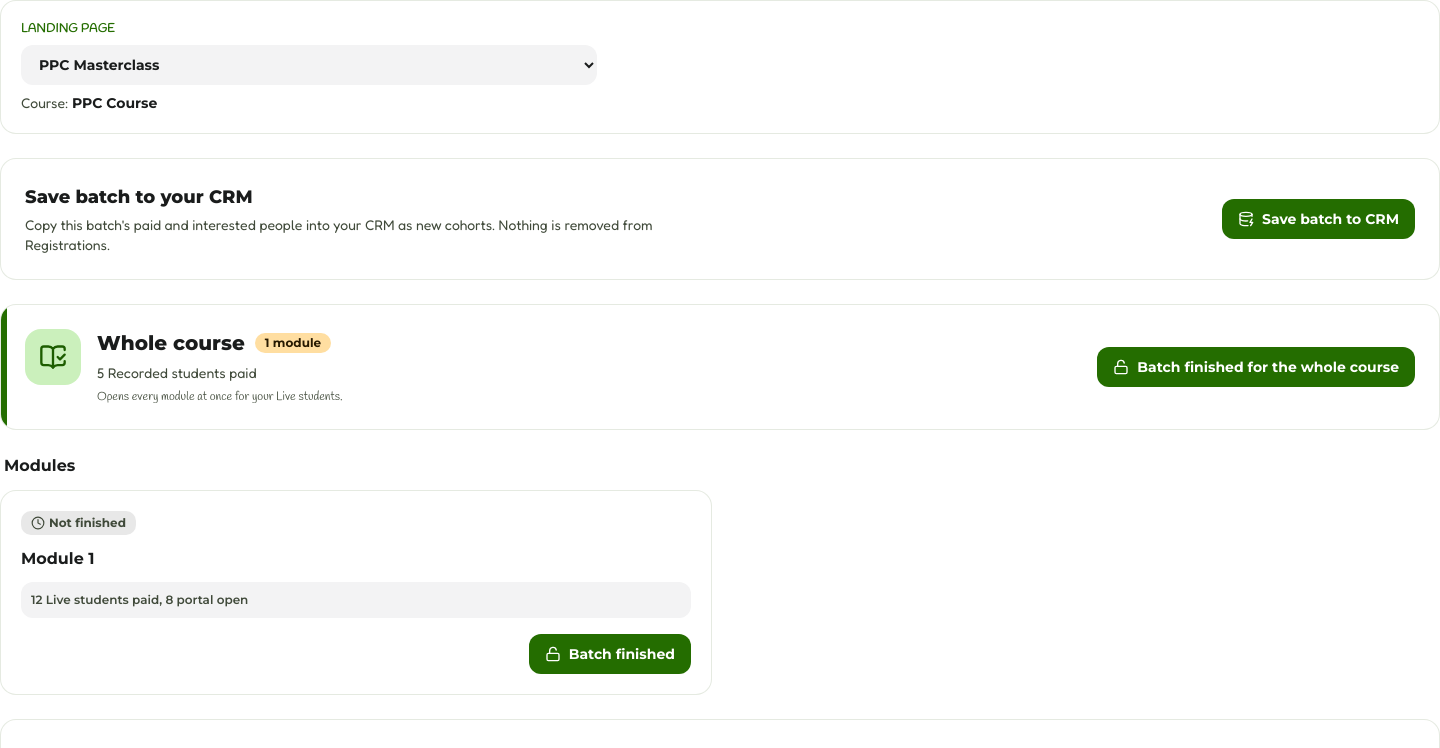
Test: Save batch to CRM › asks for the preview and shows the counts in the warning
Expected: the heading "Module 1" is shown, [21,549,94,568]
Click the button "Save batch to CRM".
click(1318, 219)  # box [1222,199,1415,239]
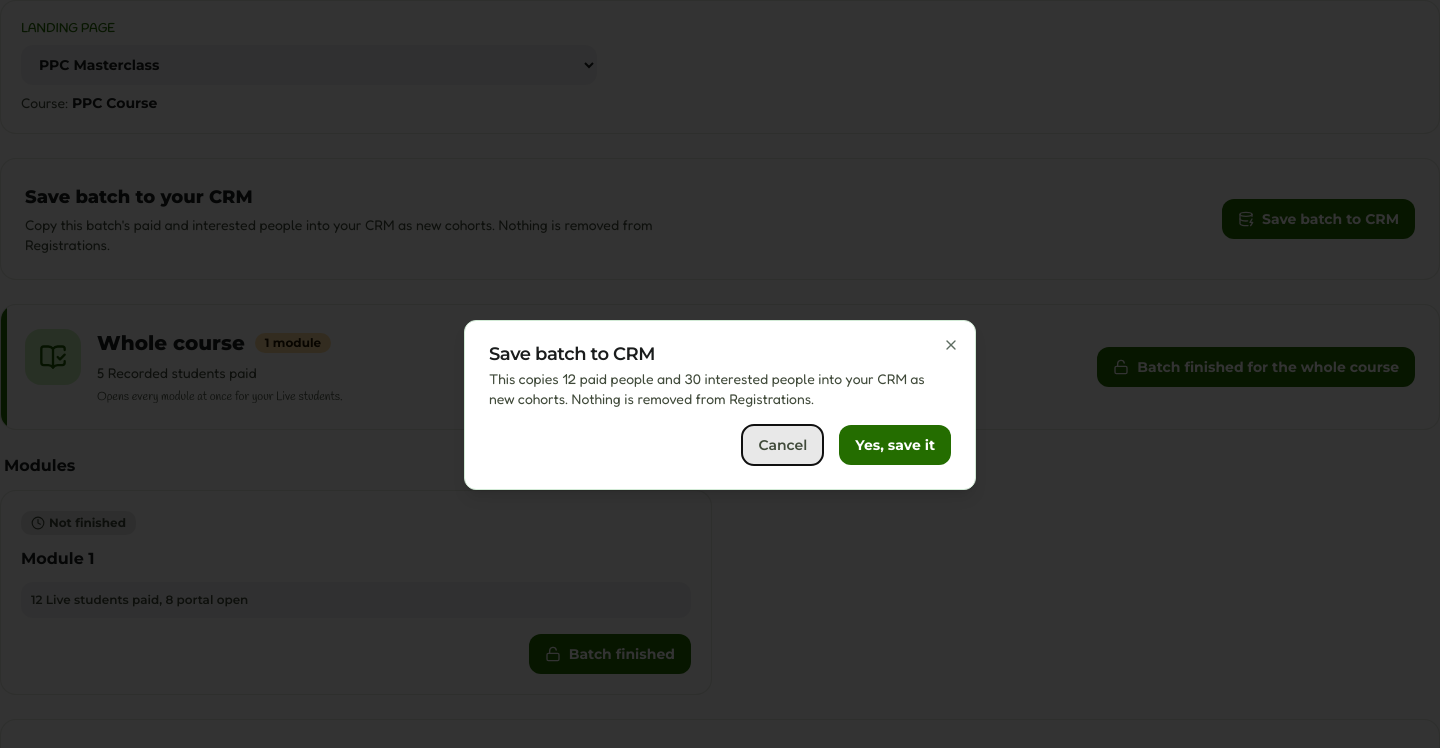
Expected: the text "This copies 12 paid people and 30 interested people into your CRM as new cohorts. Nothing is removed from Registrations" is shown, [489,370,925,407]
